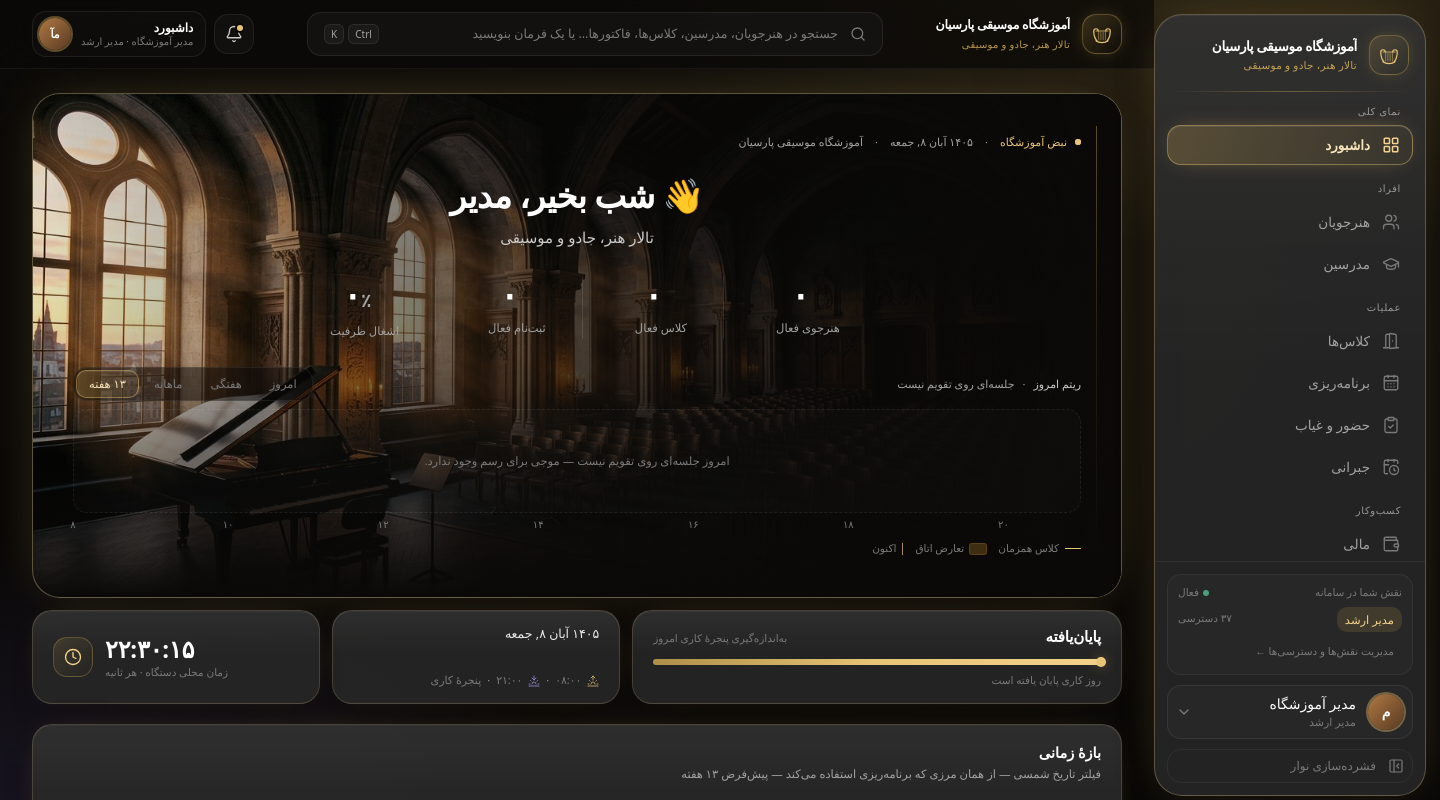
Test: command palette over zero records › still offers navigation, which does not depend on having records
This screenshot has width=1440, height=800.
Check: the navigation bar named "ناوبری اصلی" is shown, box [1155,104,1425,561]
Check: the text "داشبورد" below "نمای کلی" is shown, box [1325,136,1370,154]
Press k
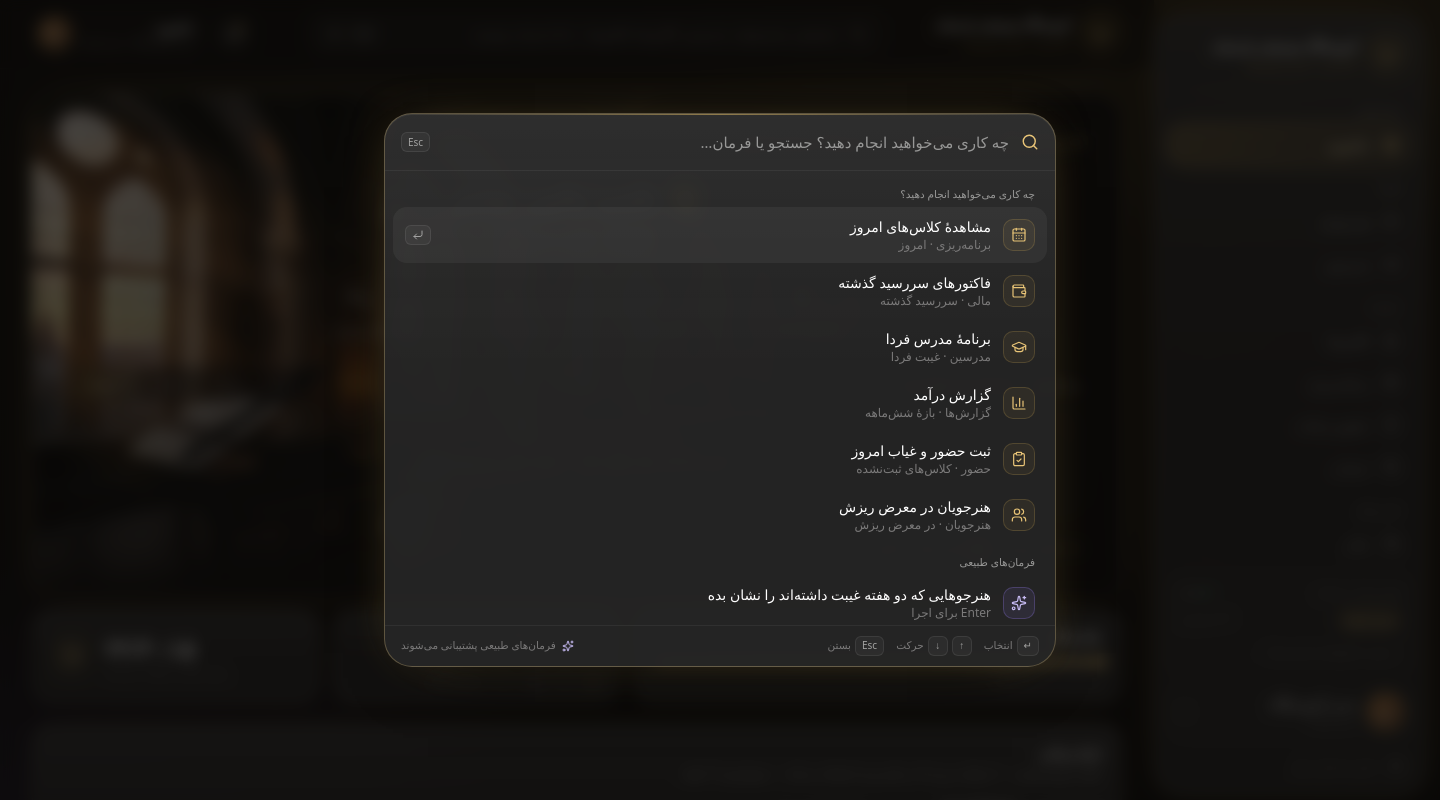
Type "هنرجویان" into the field with placeholder "چه کاری می‌خواهید انجام دهید؟ جستجو یا فرمان…" at (726, 142), box [442,114,1009,170]
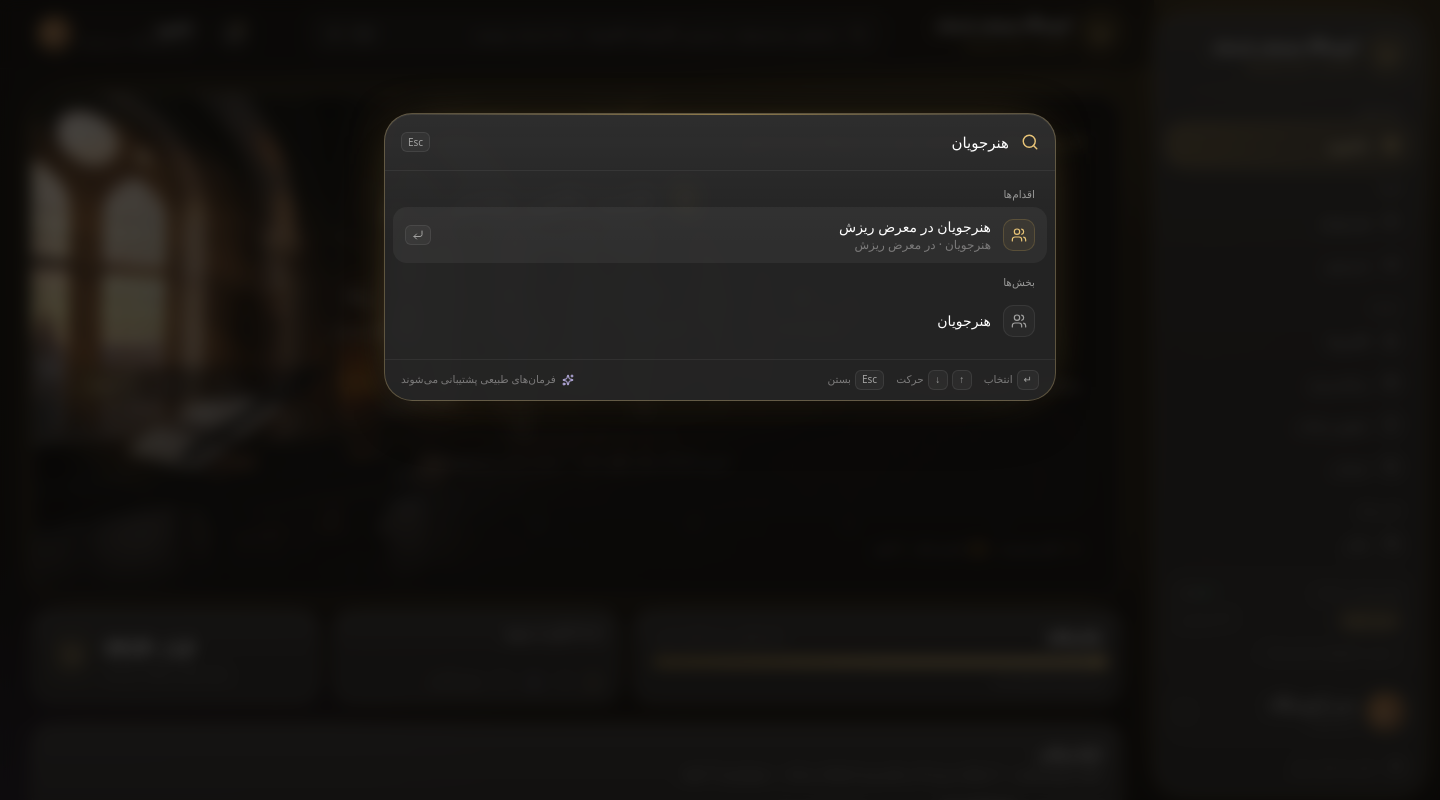
Check: the option "هنرجویان در معرض ریزش هنرجویان · در معرض ریزش" is shown, box [393,207,1047,263]
Check: the text "بخش‌ها" is shown, box [1003,275,1035,289]
Check: the text "هنرجویان" is shown, box [937,311,991,330]
